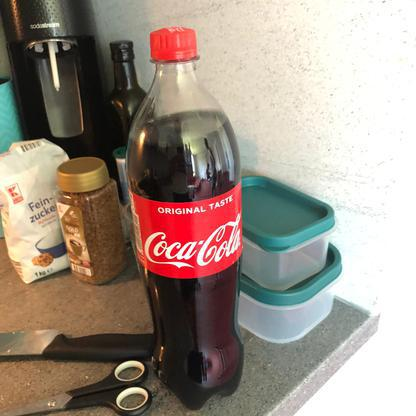coca-cola: (122, 23, 249, 409)
